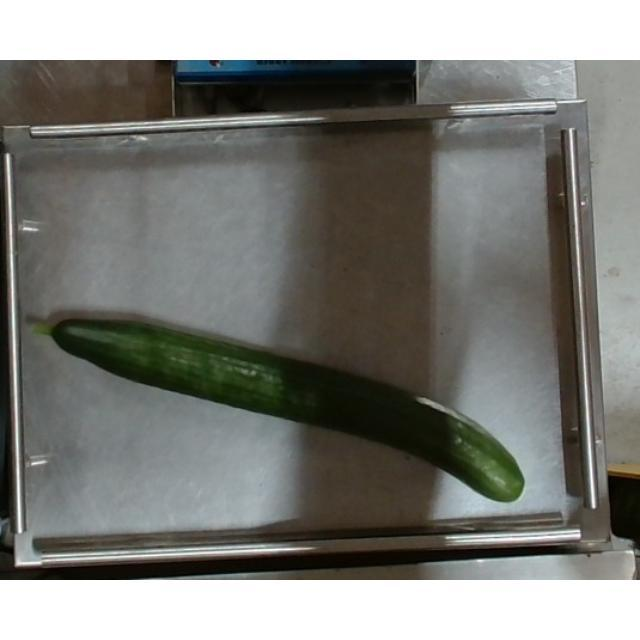cucumber: (32, 316, 524, 504)
